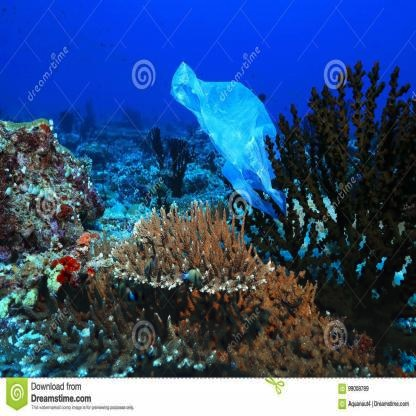pbag: (163, 52, 293, 221)
